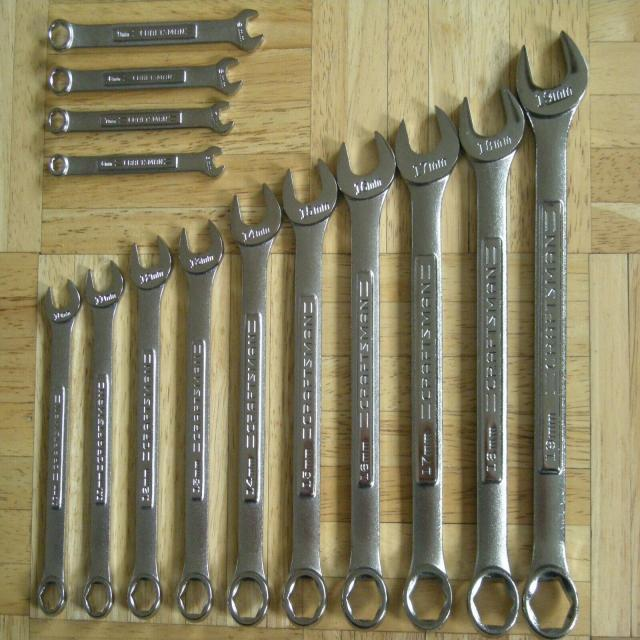wrench: (513, 27, 590, 640), (457, 82, 526, 638), (396, 102, 460, 633), (336, 129, 396, 633), (282, 156, 338, 632), (230, 176, 282, 631), (176, 217, 224, 624), (128, 236, 174, 624), (82, 258, 126, 624), (35, 276, 81, 626), (45, 4, 266, 57), (48, 55, 242, 101), (46, 98, 238, 138), (48, 143, 226, 181)
